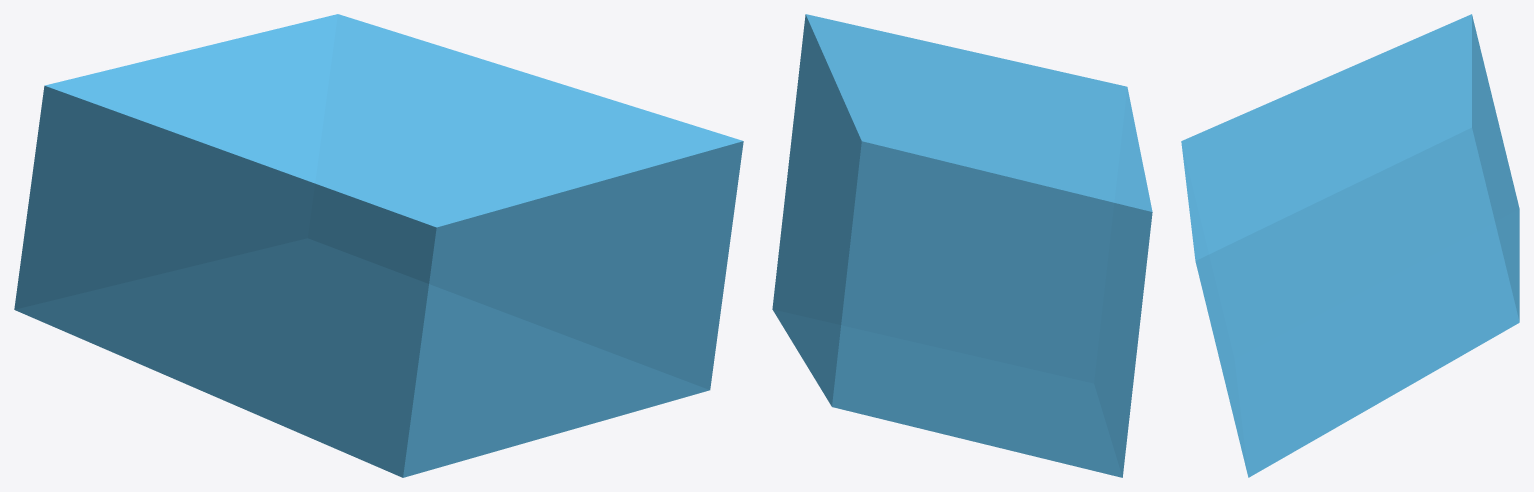
Rendered from Event_420094457_HBrechit_27.fbx.
The picture shows the model from 3 angles, left to right: view 1: azimuth 30°, elevation 25°; view 2: azimuth 150°, elevation 25°; view 3: azimuth 270°, elevation 25°; orthographic projection. The views are drawn at different scales.
Parts seen in each view (by area): view 1: Model; view 2: Model; view 3: Model.
Boxes of the visible parts, left/top/right/bottom form: Model: left=14, top=14, right=743, bottom=477; Model: left=772, top=14, right=1152, bottom=477; Model: left=1181, top=14, right=1519, bottom=477.
Bounding box in the file's own units: 0.8744 × 0.5313 × 0.6163.
